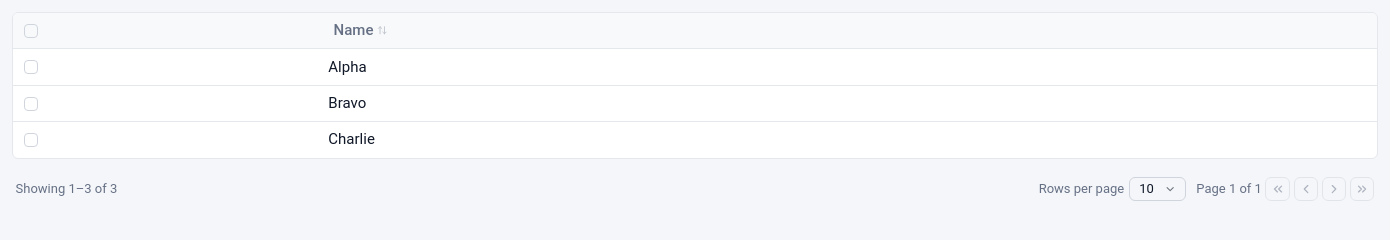
it: DataTable with selection › selects an individual row
Step 1. Click the checkbox named "Select row b" → (31, 104), box [24,97,38,111]
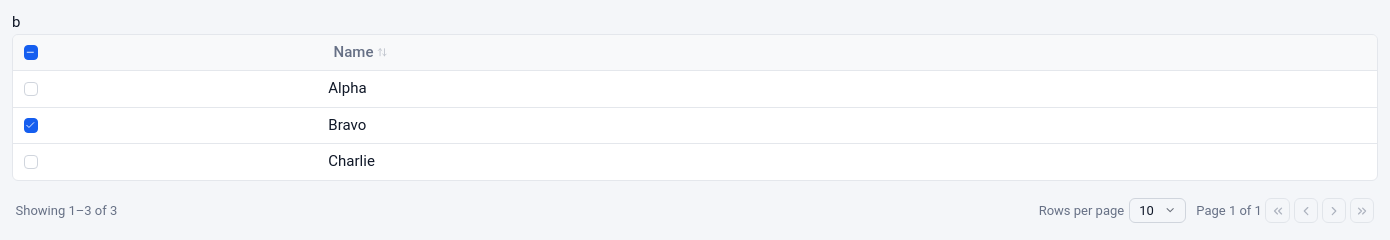
Result: the text with test id "selection" reads "b" at [12,13,20,31]
